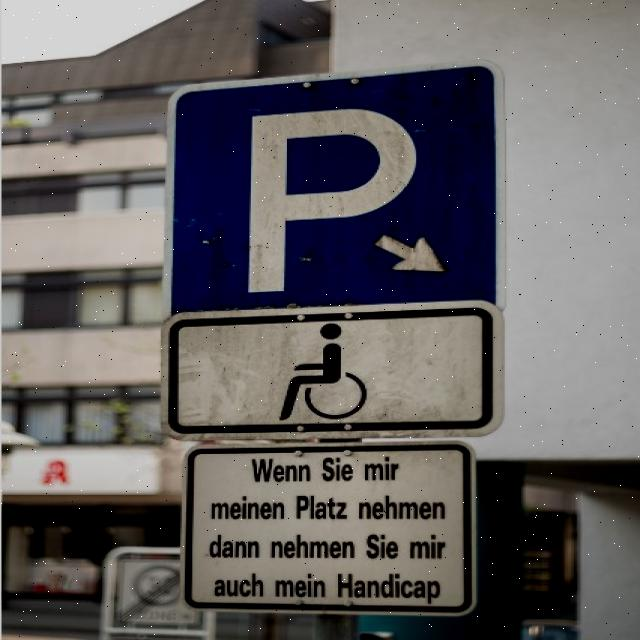symbol_of_access: (162, 301, 502, 439)
